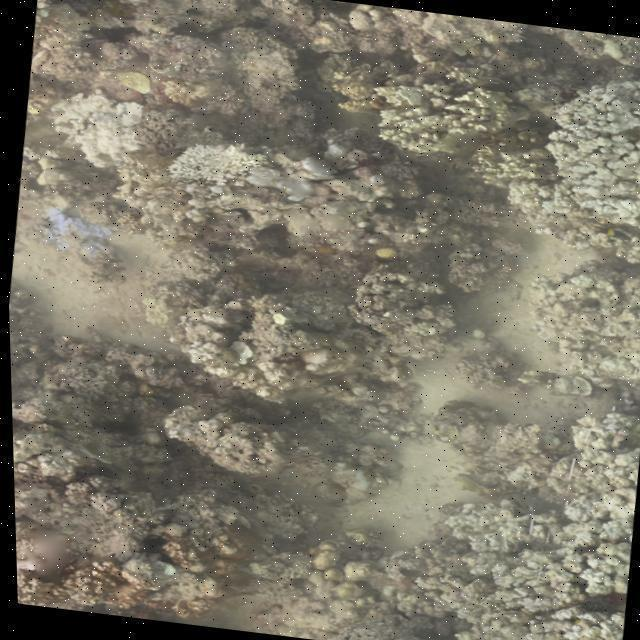Bleached Coral: (514, 70, 640, 224), (53, 84, 152, 170), (163, 126, 270, 199)
